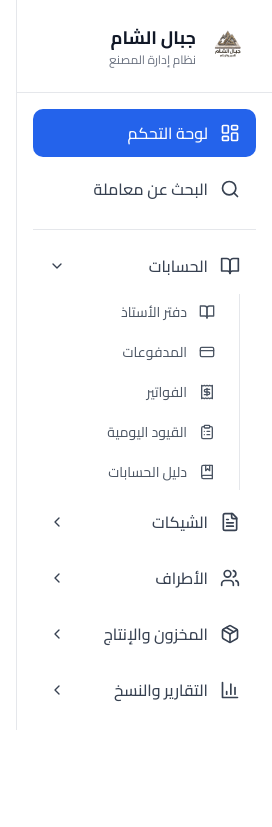
Test: Sidebar › Navigation Groups › can expand cheques group by clicking
Click the cheques group trigger
Click the button "الشيكات": point(144, 522) [33,498,256,546]
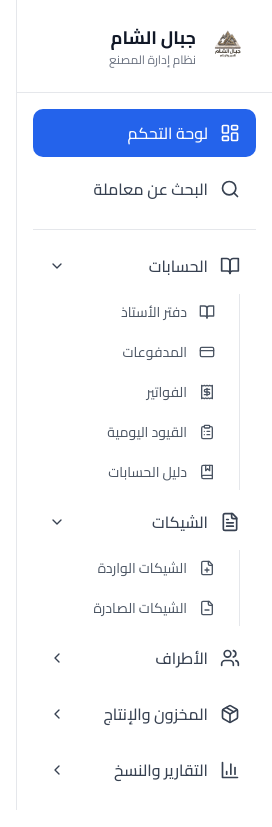
Check: the link "الشيكات الواردة" is shown, box [98,555,215,581]
Check: the link "الشيكات الصادرة" is shown, box [93,595,215,621]
